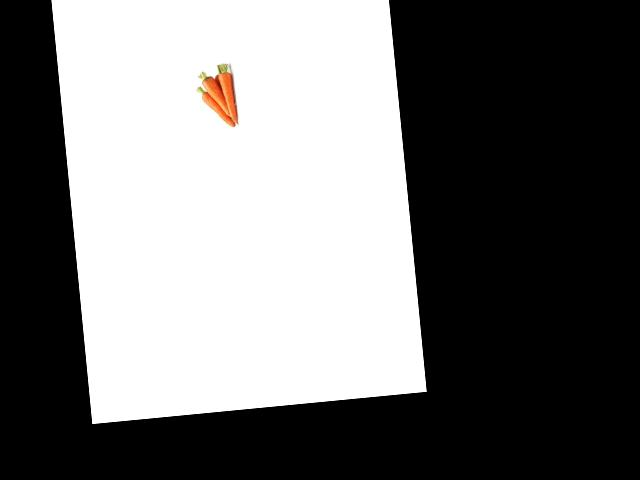carrot: (217, 66, 243, 127)
